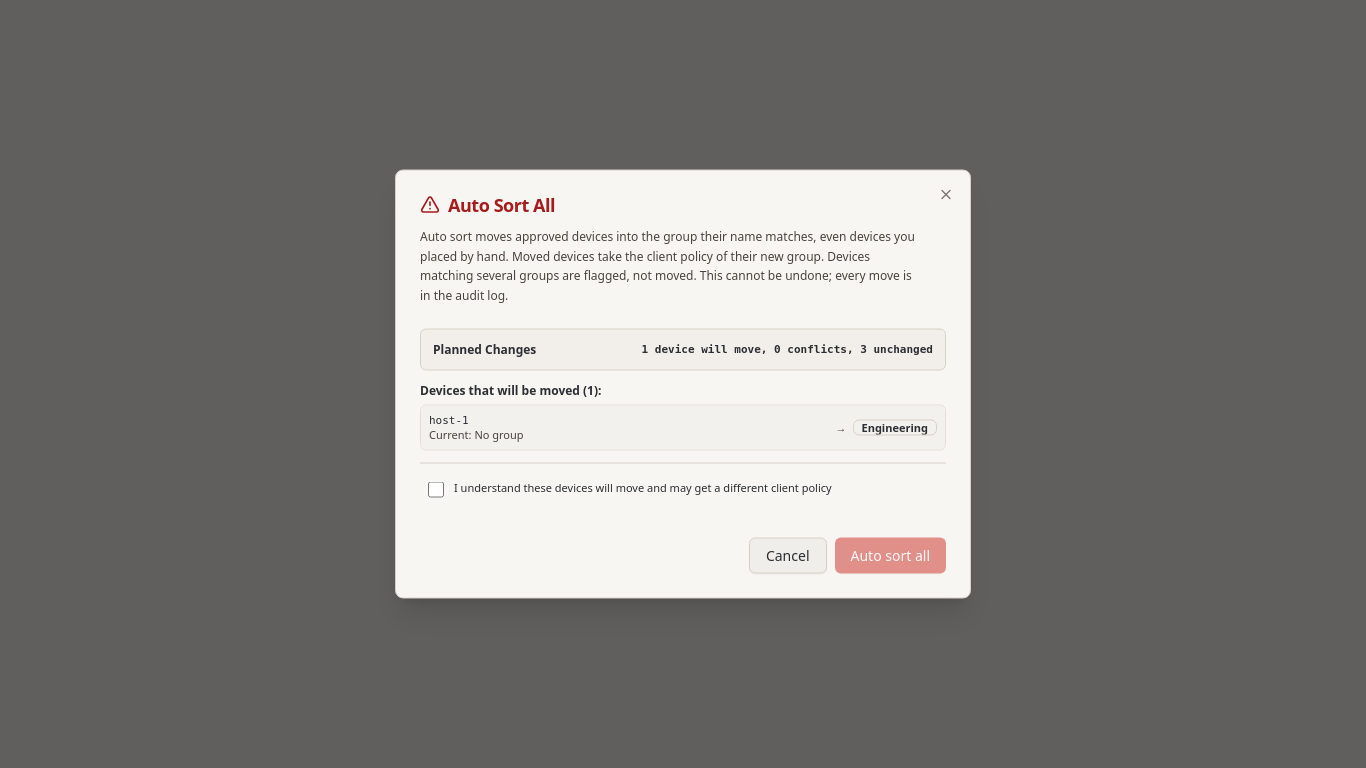
Test: AutoSortDialog › surfaces 503 busy error message when auto sort run encounters lock timeout
Expected: the text "1 device will move, 0 conflicts, 3 unchanged" is shown, [642, 342, 933, 356]
Tick checkbox
Click the checkbox at (436, 490), box [428, 482, 444, 498]
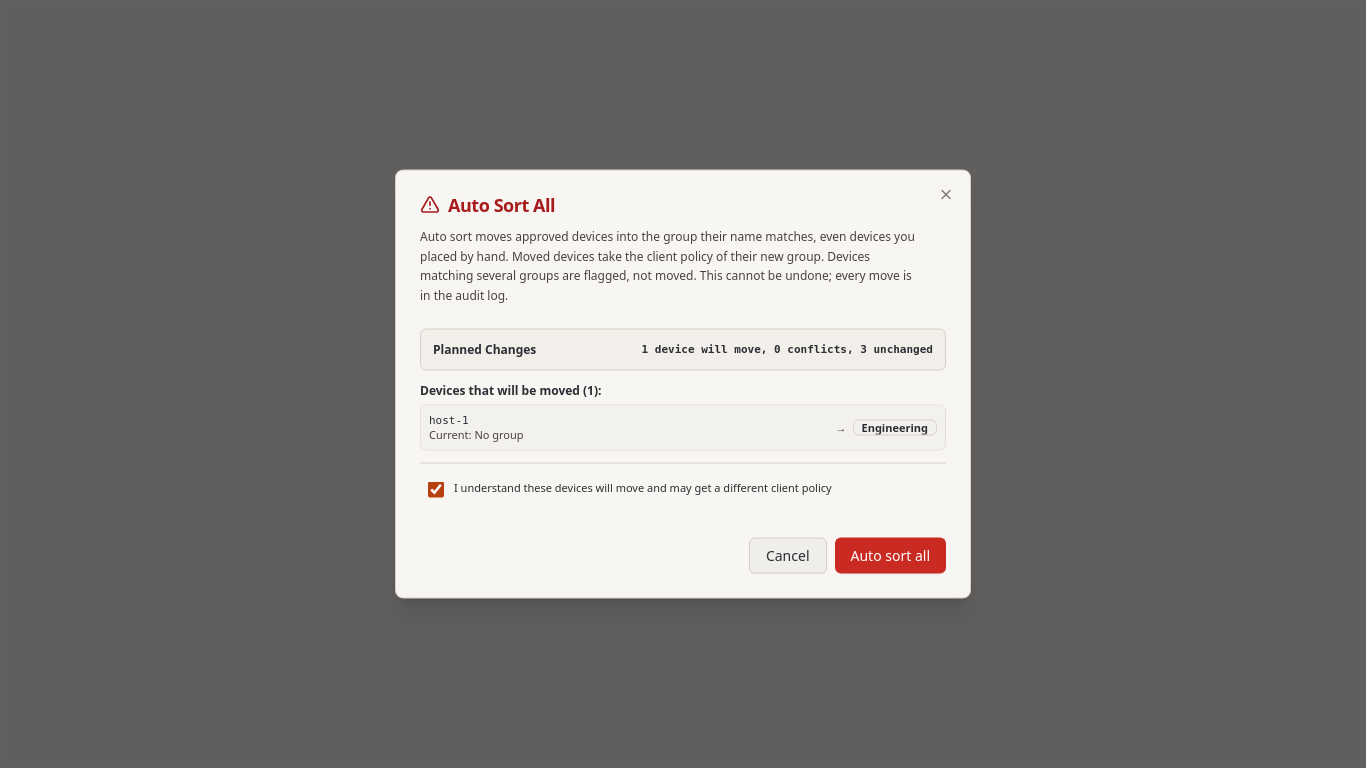
Click confirm
Click the button "Auto sort all" at (890, 556), box [834, 538, 946, 574]
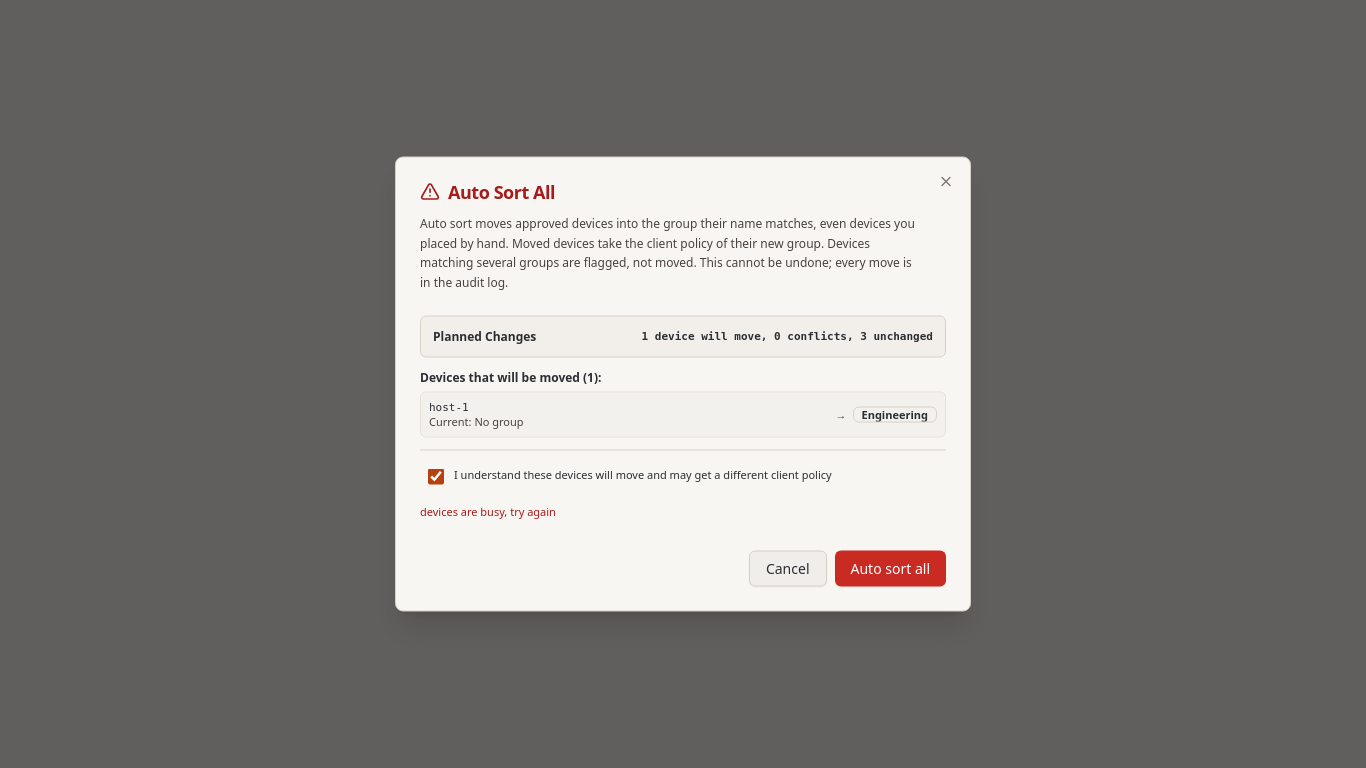
Expected: the text "devices are busy, try again" is shown, [420, 504, 556, 518]
